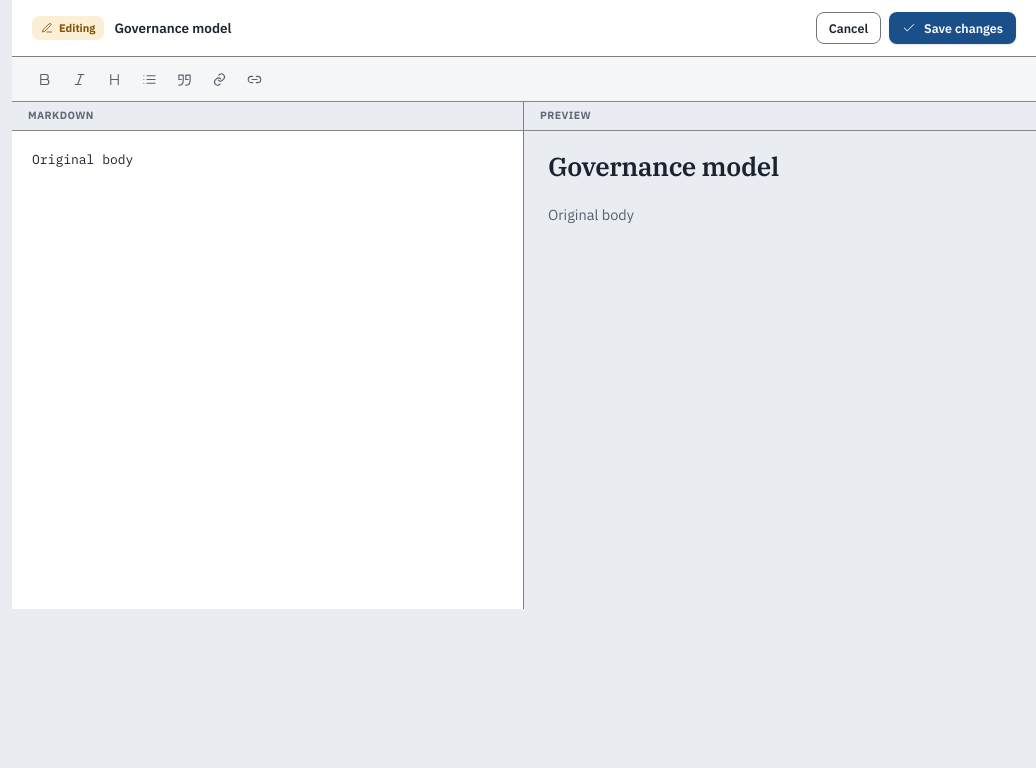
it: WikiEditor (P15e) › autosaves the body to a per-doc draft after typing settles, showing the indicator (WK8)
Replace the text in the text box showing "Original body" with "Work in progress" at (268, 370), box [12,131,523,609]
Wait 600 ms
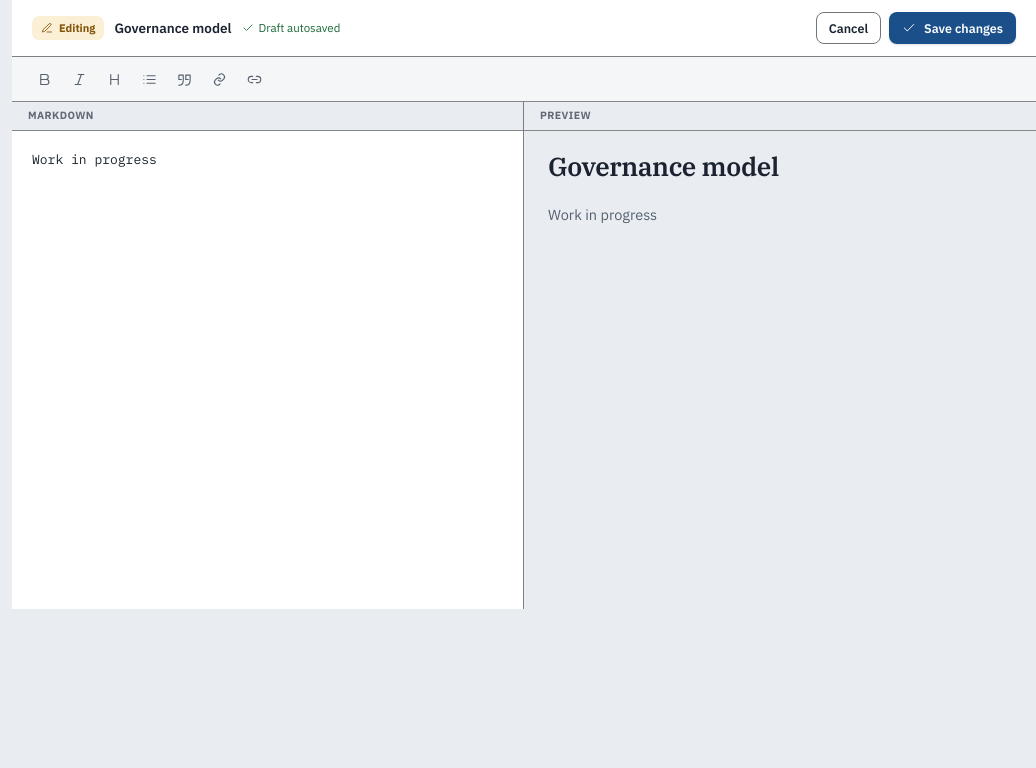
Now the text "Draft autosaved" is shown, box [242,19,340,37]
